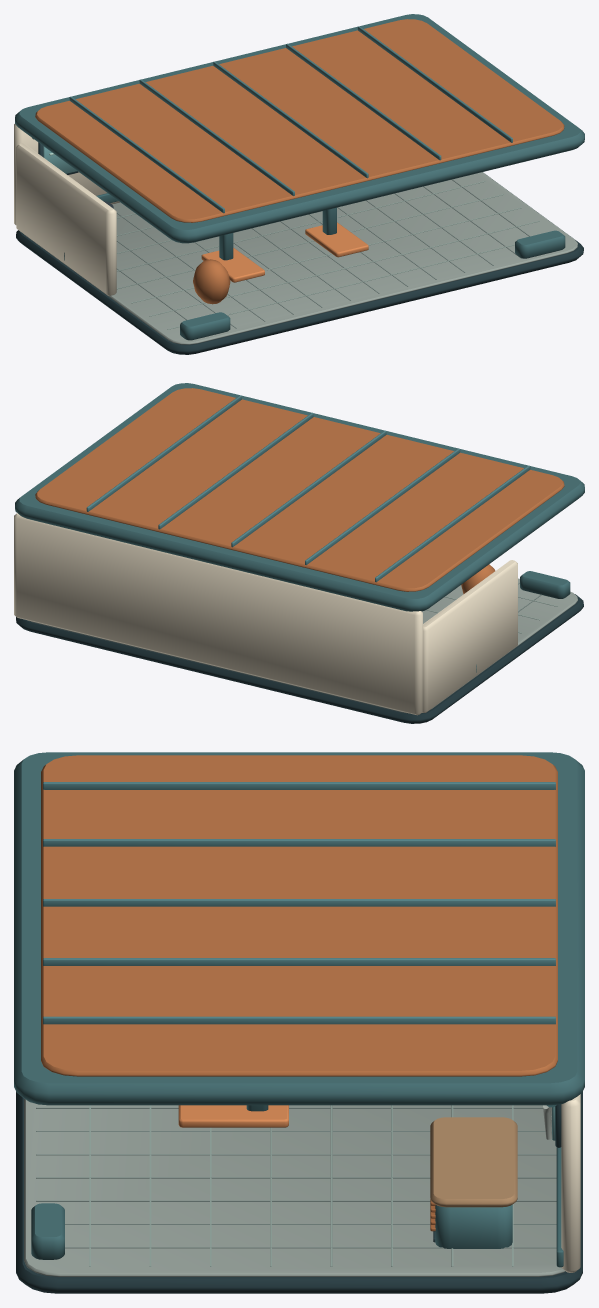
Rendered from workshop.glb.
The picture shows the model from 3 angles, top to bottom: view 1: azimuth 30°, elevation 25°; view 2: azimuth 150°, elevation 25°; view 3: azimuth 270°, elevation 25°; orthographic projection. The views are drawn at different scales.
Visible parts, largest first — view 1: Roof, Room; view 2: Roof, Room; view 3: Roof, Room.
Part boxes in pixels (x1=…): Roof: x1=15, y1=14, x2=584, y2=243; Room: x1=14, y1=124, x2=583, y2=354; Roof: x1=15, y1=383, x2=584, y2=611; Room: x1=14, y1=513, x2=583, y2=723; Roof: x1=14, y1=752, x2=584, y2=1105; Room: x1=16, y1=1092, x2=582, y2=1293.
Bounding box in the file's own units: 11.5 × 3.48 × 8.18.
